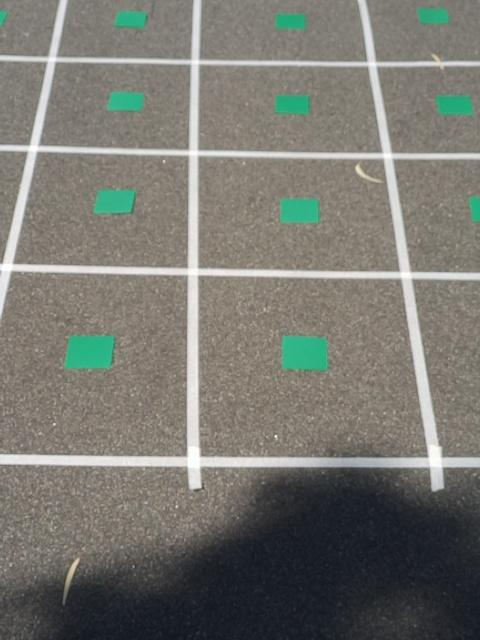weed: (62, 330, 117, 372), (283, 336, 328, 370), (279, 194, 318, 228), (92, 187, 133, 219), (104, 88, 147, 116), (433, 92, 477, 119), (274, 92, 314, 118), (109, 8, 150, 31), (414, 6, 450, 26), (277, 11, 306, 31), (468, 189, 480, 228)
